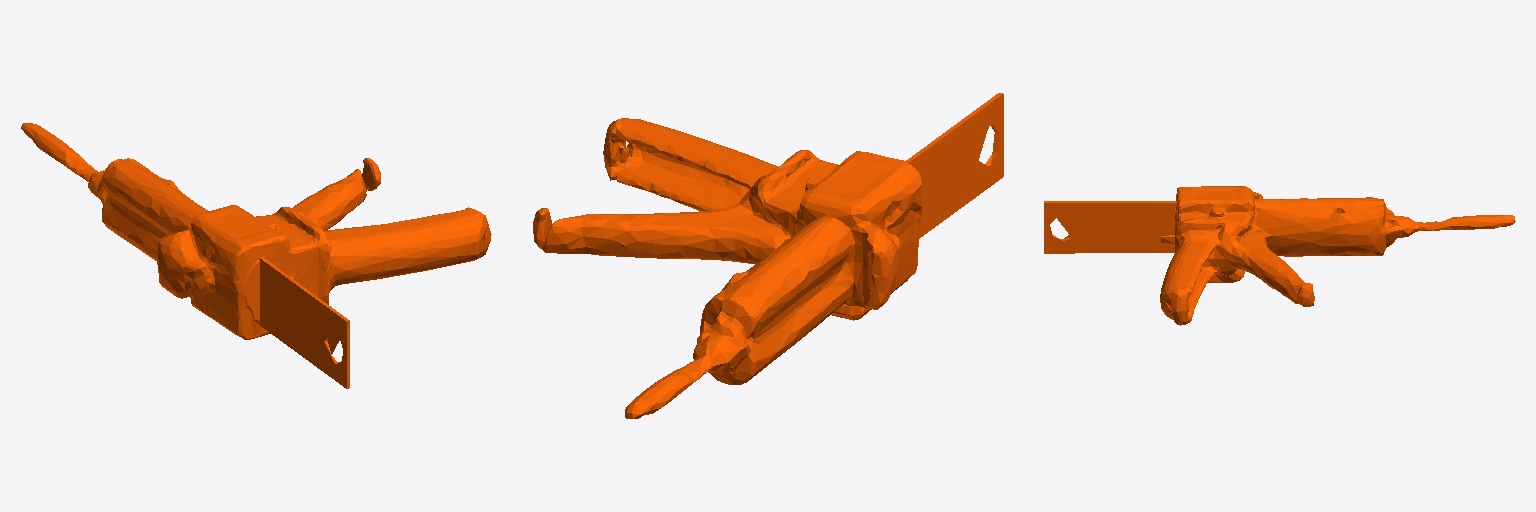
The robot description file, URDF, robot "gun_functional":
<?xml version="1.0" ?>
<robot name="gun_functional">
   <material name="obj_color">
      <color rgba="1.0 0.423529411765 0.0392156862745 1.0"/>
   </material>
   <link name="top">
      <inertial>
         <origin rpy="0.0007360038323290592 0.001682768506492827 0.002235792542387135" xyz="-0.01684401792027745 0.0007364135520484401 -0.0001006609612691197"/>
         <mass value="0.6510024542605175"/>
         <inertia ixx="0.001565644662339523" ixy="0.0003117070510321176" ixz="-7.201790761035252e-06" iyy="0.0008532789551348697" iyz="1.291187889540585e-05" izz="0.002235641263734628"/>
      </inertial>
      <visual>
         <origin rpy="0 0 0" xyz="0 0 0"/>
         <geometry>
            <mesh filename="top_watertight_tiny.stl" scale="1 1 1"/>
         </geometry>
         <material name="obj_color"/>
      </visual>
      <collision>
         <origin rpy="0 0 0" xyz="0 0 0"/>
         <geometry>
            <mesh filename="top_watertight_tiny.obj" scale="1 1 1"/>
         </geometry>
      </collision>
   </link>
   <link name="bottom">
      <inertial>
         <origin rpy="1.633333333199431e-08 1.633333333199431e-08 1.633333333362855e-08" xyz="0.3464080000000008 0.3464080000000008 0.3464080000000008"/>
         <mass value="0.0009800000000000017"/>
         <inertia ixx="1.633333333253906e-08" ixy="5.447480642029219e-19" ixz="5.447480642029219e-19" iyy="1.633333333253906e-08" iyz="5.447480642029219e-19" izz="1.633333333253906e-08"/>
      </inertial>
      <visual>
         <origin rpy="0 0 0" xyz="0 0 0"/>
         <geometry>
            <mesh filename="bottom_watertight_tiny.stl" scale="1 1 1"/>
         </geometry>
         <material name="obj_color"/>
      </visual>
   </link>
   <joint name="rotation" type="revolute">
      <origin xyz="0 0 0"/>
      <axis xyz="0 0 -1"/>
      <parent link="bottom"/>
      <child link="top"/>
      <dynamics damping="1.0" friction="1.0"/>
      <limit effort="0.1" velocity="0.1" lower="0" upper="0.001"/>
   </joint>
</robot>

--- Facts derived from the render (not from the file) ---
Views: 3 orthographic renders of the robot side by side, from view 1: azimuth 30°, elevation 25°; view 2: azimuth 150°, elevation 25°; view 3: azimuth 270°, elevation 25°.
Model gun_functional with 2 links and 1 joints (1 revolute), rooted at bottom, posed every joint at zero.
Links seen in each view (by area): view 1: top; view 2: top; view 3: top.
Boxes of the visible links, box(x1,y1,x2,y2) form: top: box(21, 123, 491, 388); top: box(533, 93, 1003, 418); top: box(1044, 186, 1515, 325).
Size in the robot's own frame: 0.1749 by 0.3356 by 0.0567 metres.
1 mesh visuals loaded from 2 distinct referenced files (1 binary STL); not drawn: 1 (reference not matched to a file when rendering).
